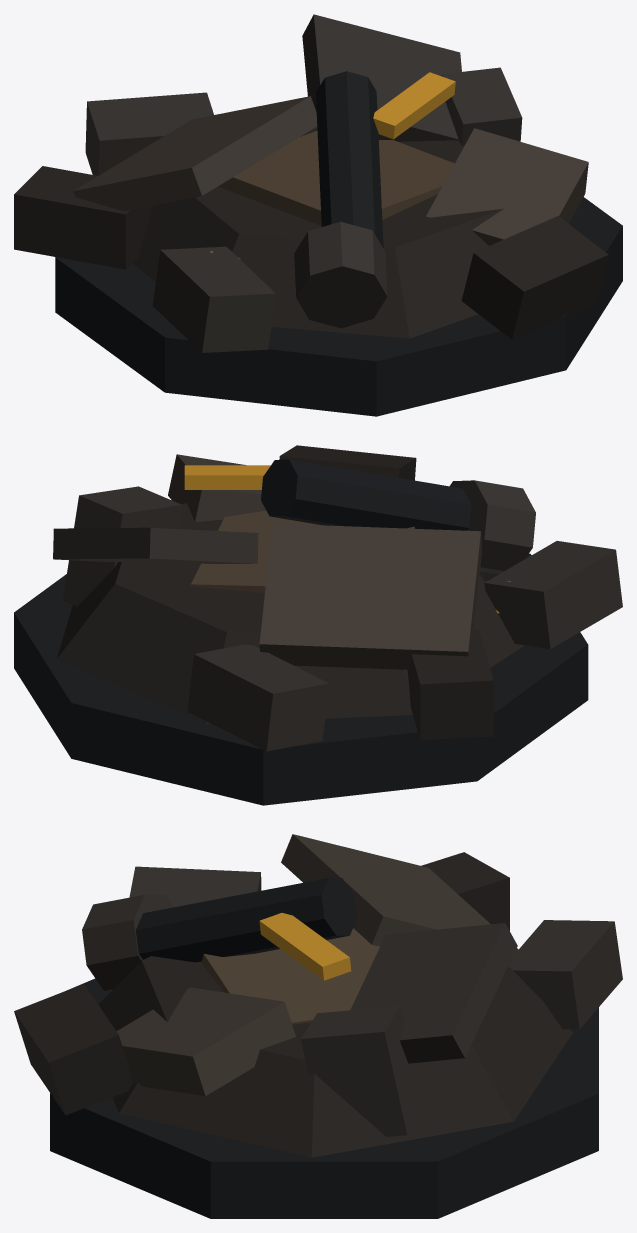
The model's file is ruins_machinegun.glb.
3 renders of one model, top to bottom at view 1: azimuth 30°, elevation 25°; view 2: azimuth 150°, elevation 25°; view 3: azimuth 270°, elevation 25°, orthographic. The views are drawn at different scales.
Visible parts, largest first — view 1: body; view 2: body; view 3: body.
Boxes of the visible parts, bbox=[...] form: body: bbox=[14, 14, 622, 416]; body: bbox=[14, 445, 622, 805]; body: bbox=[14, 834, 622, 1218].
Bounding box in the file's own units: 0.923 × 0.4013 × 0.9634.
